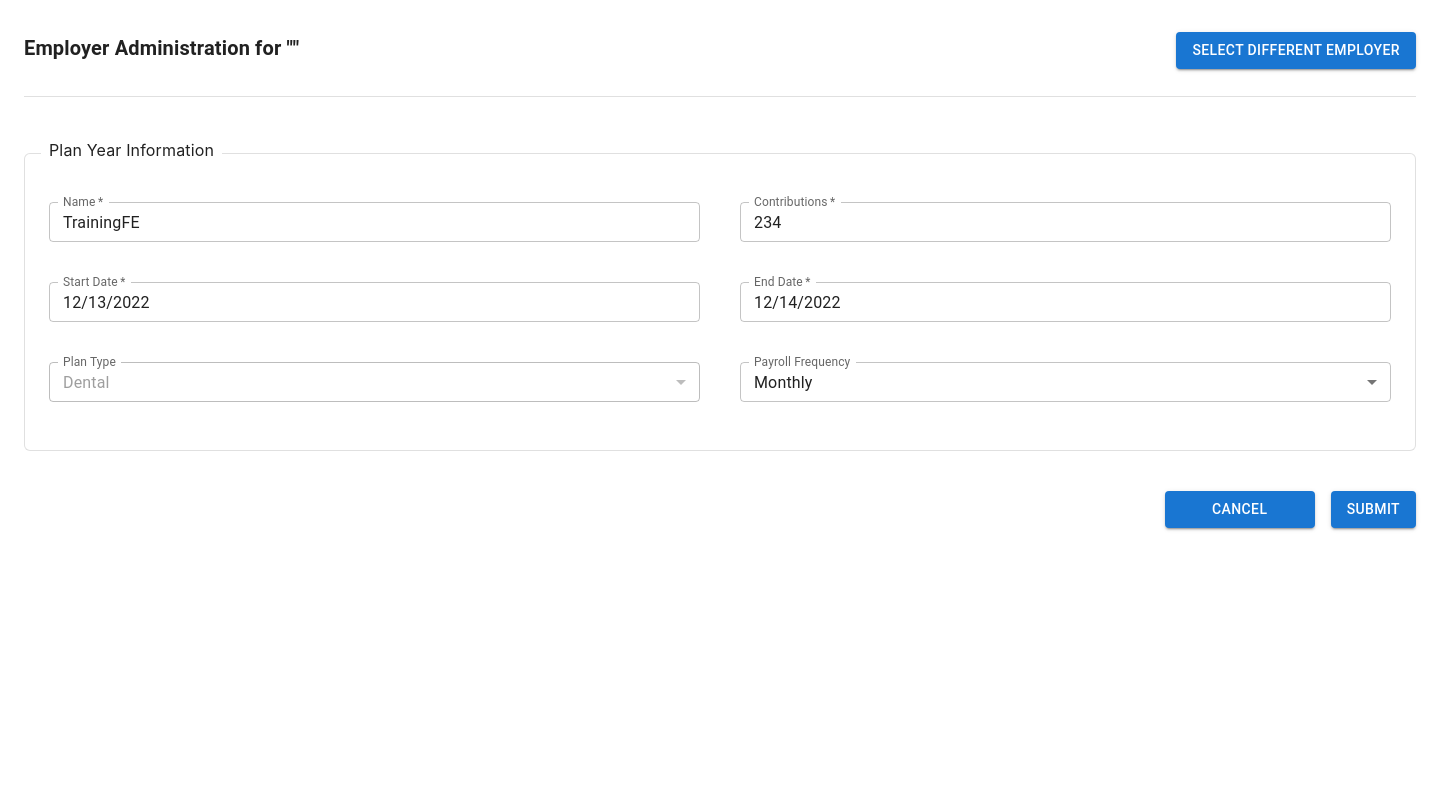
Test case: ManagePlanYear › It should show popup alert
The image size is (1440, 810).
Click the button "Submit": click(1373, 509) [1331, 491, 1416, 528]
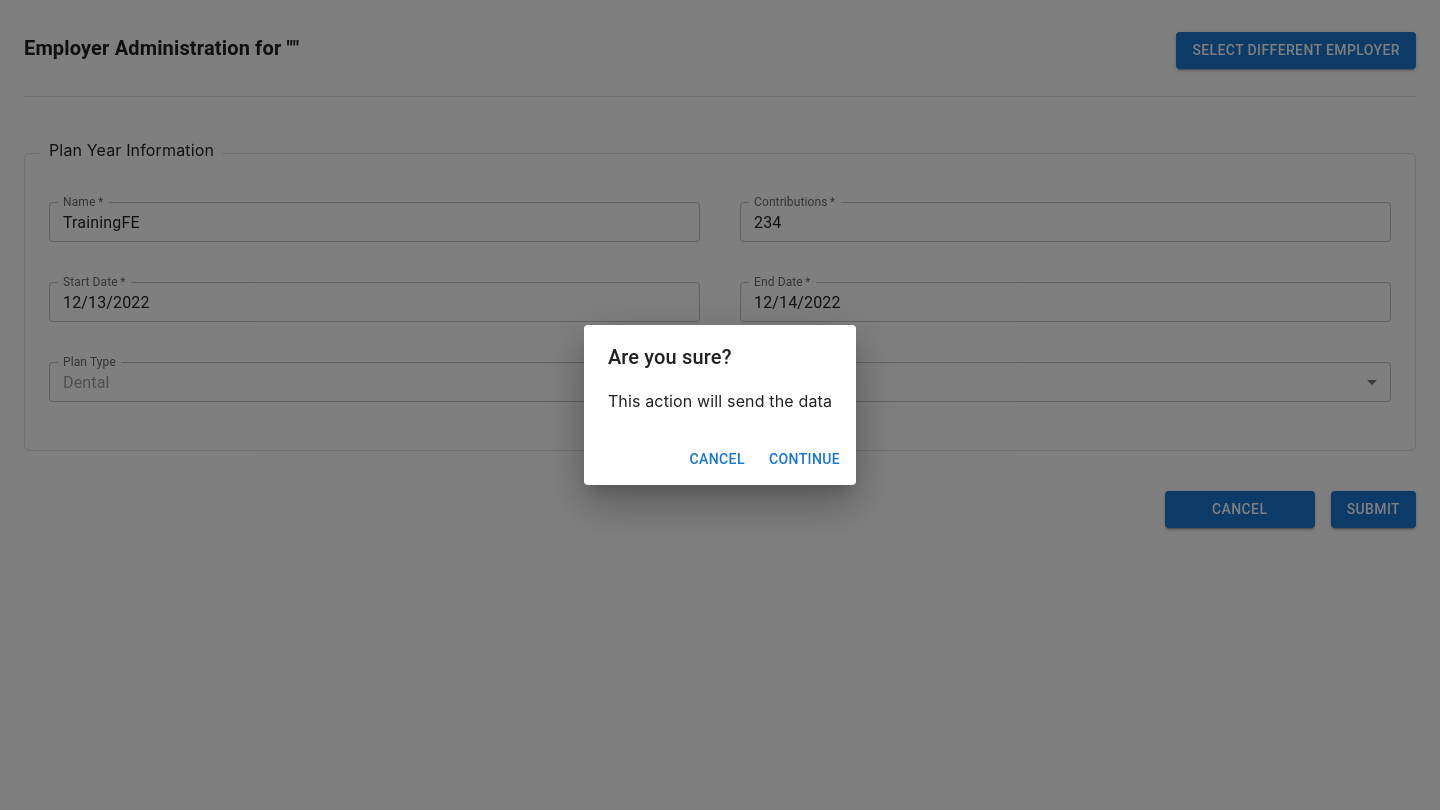
Expected: the text "This action will send the data" is shown, [608, 391, 832, 411]
Click the button with test id "cancel-popup": click(717, 459) [682, 441, 753, 477]
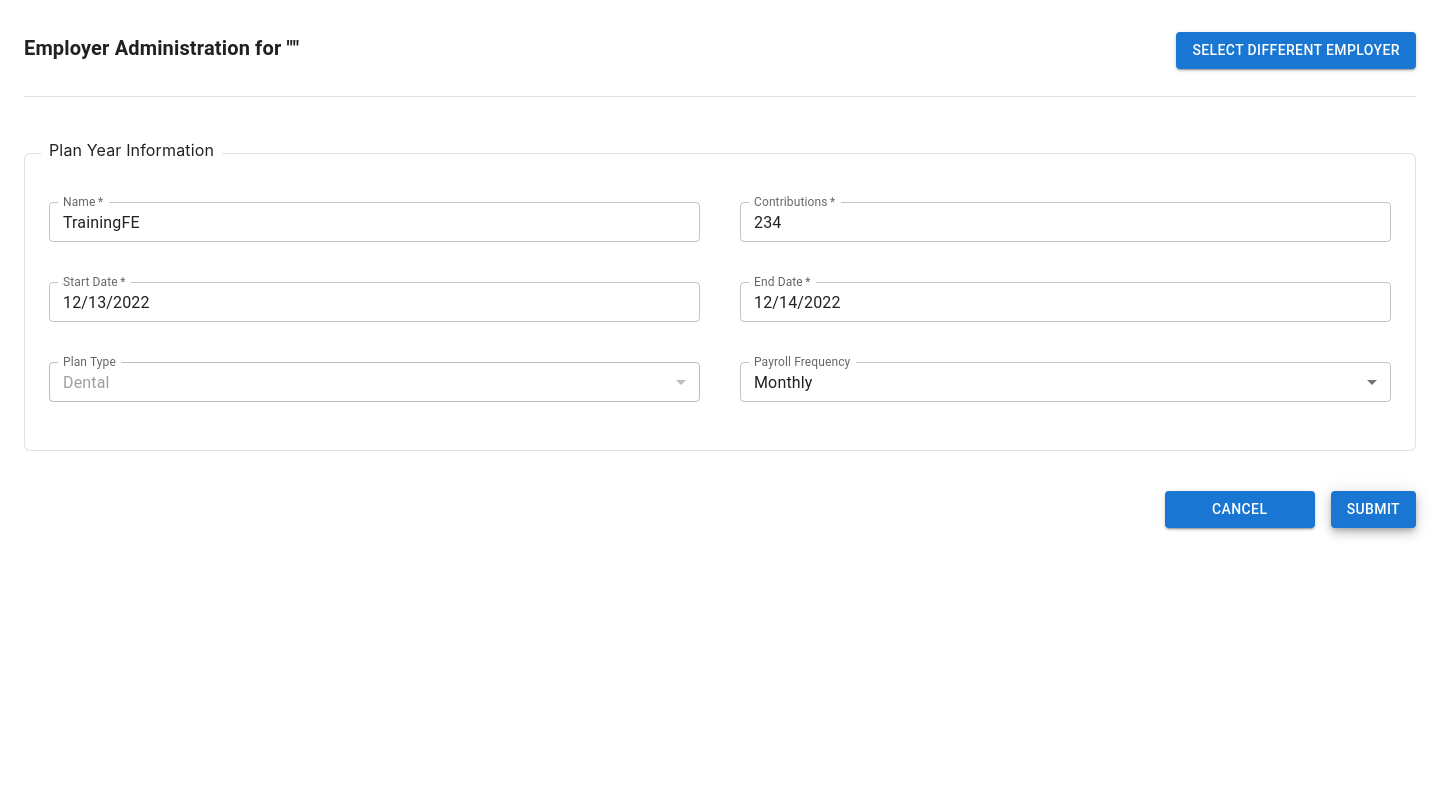
Expected: the text "This action will send the data" is gone
Click the button "Cancel": click(1240, 509) [1165, 491, 1315, 528]
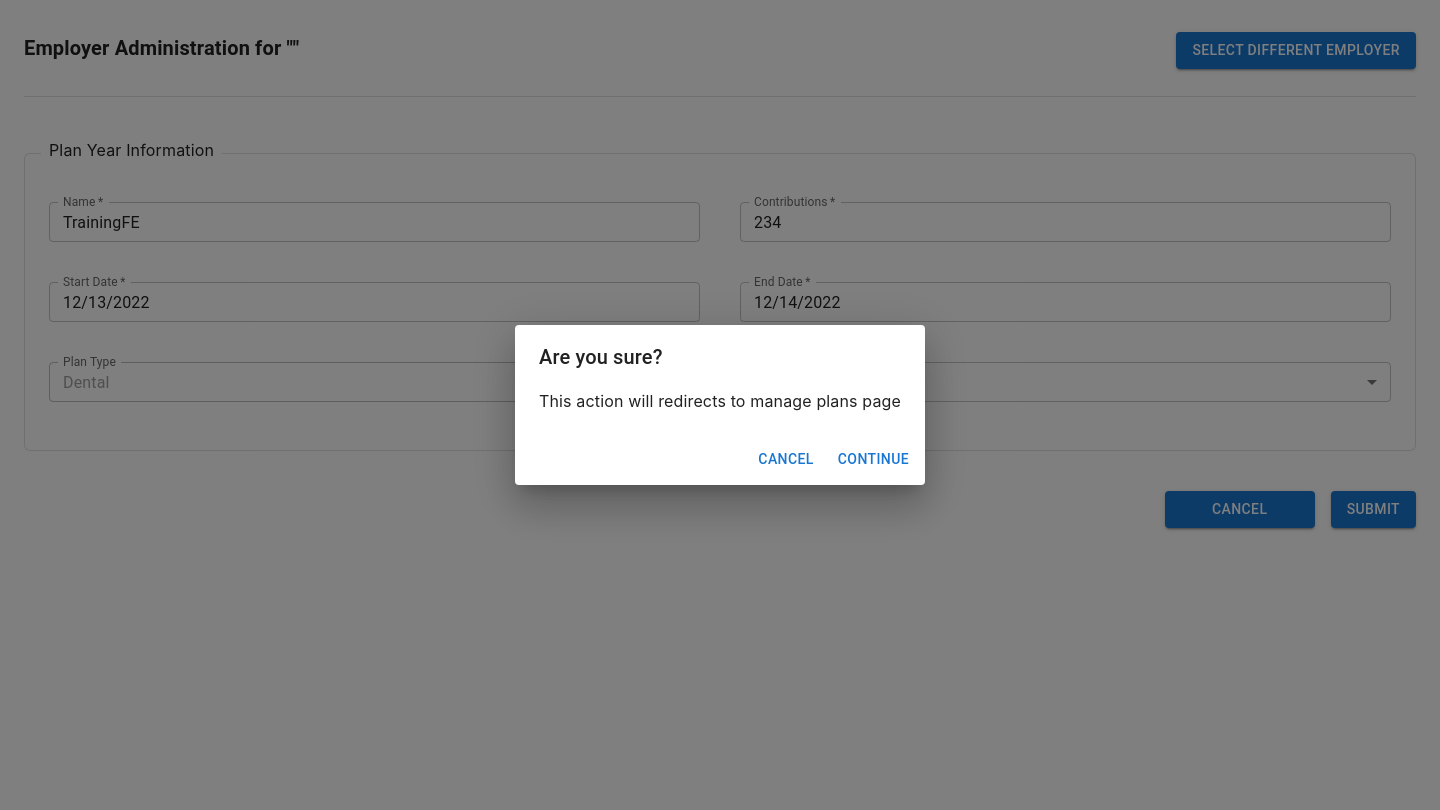
Expected: the text "This action will redirects to manage plans page" is shown, [539, 391, 901, 411]
Click the button with test id "cancel-popup": click(786, 459) [750, 441, 822, 477]
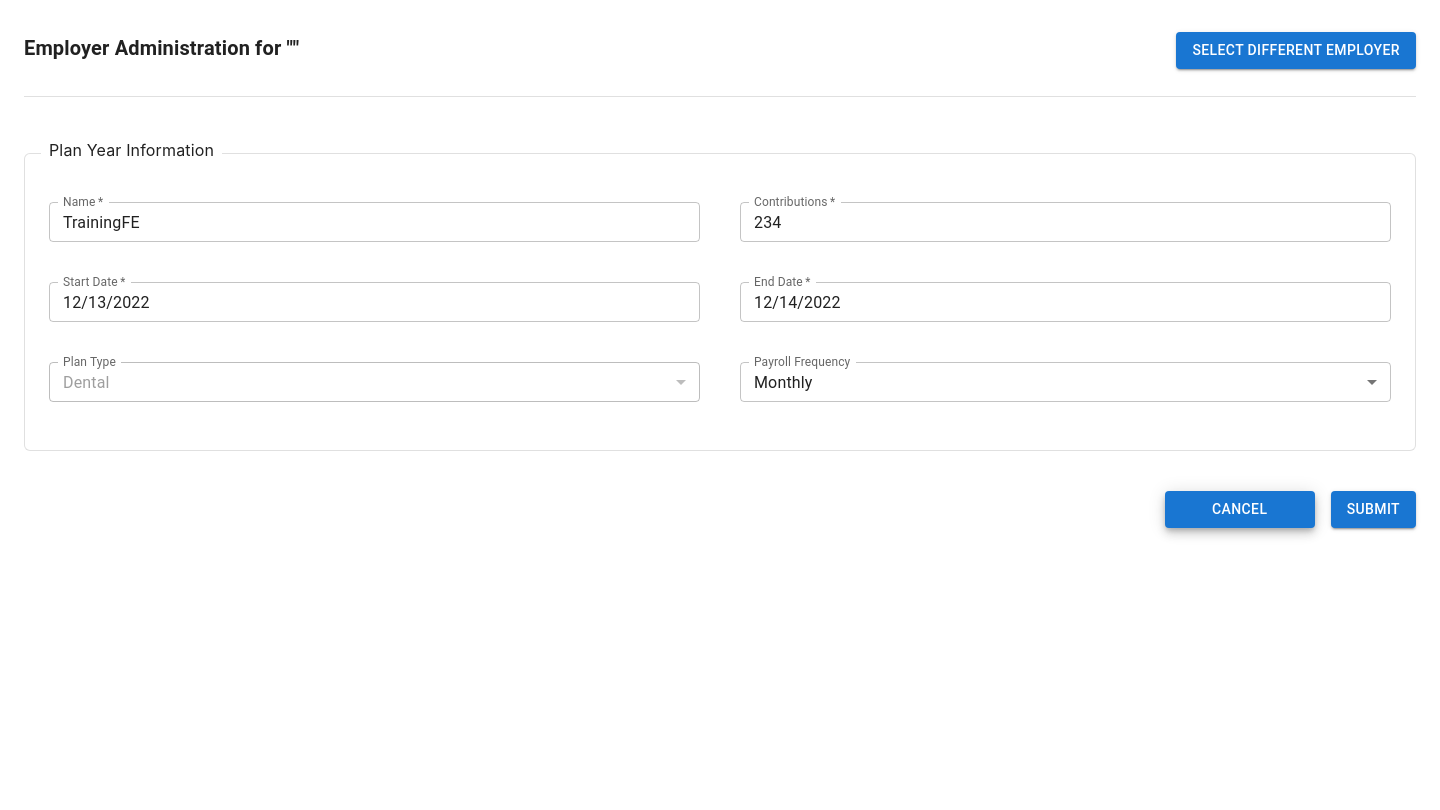
Expected: the text "This action will redirects to manage plans page" is gone
